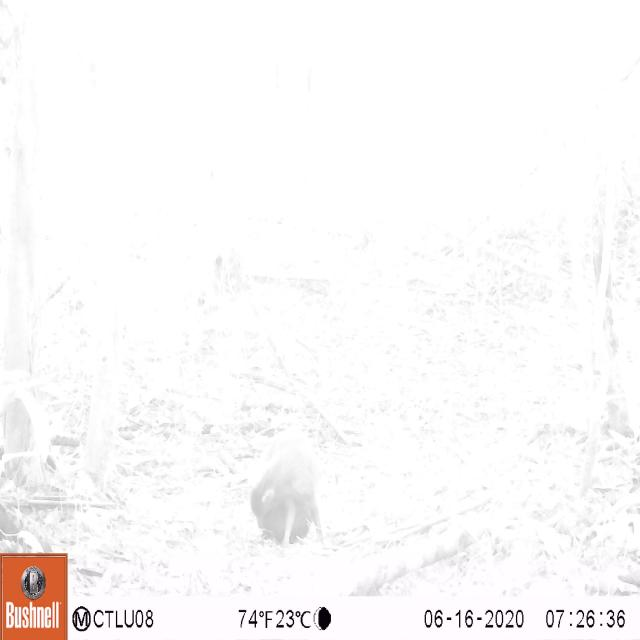Black Agouti: (240, 421, 334, 556)
